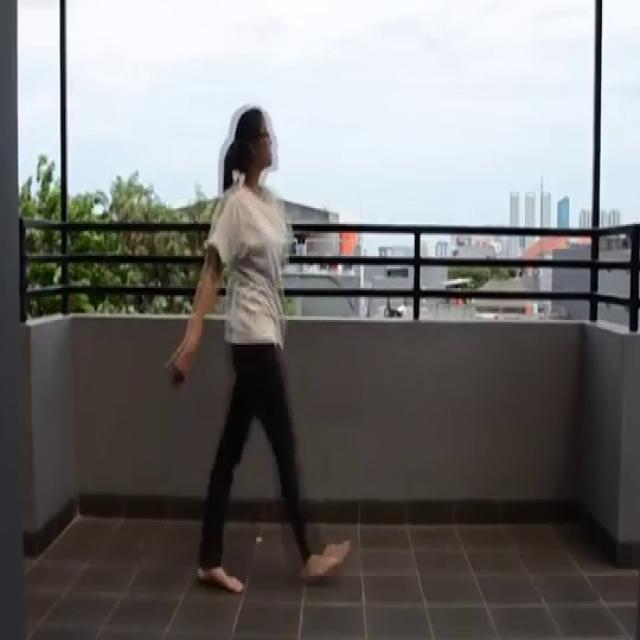normal: (166, 99, 361, 601)
